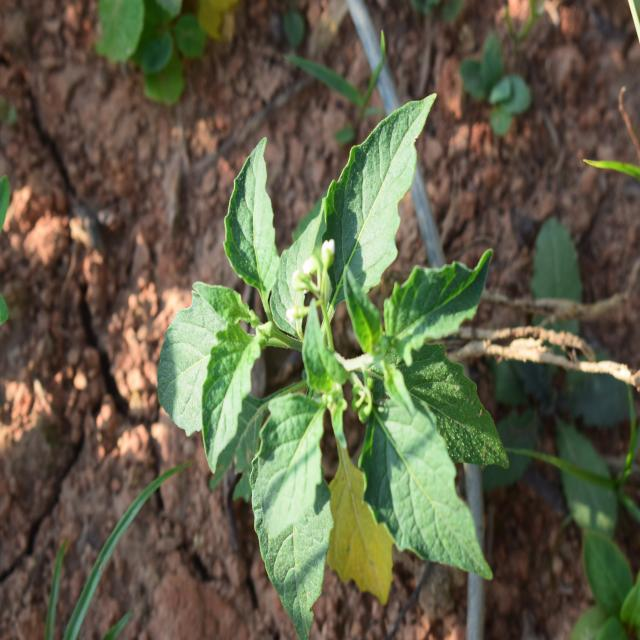Black_nightshade: (177, 125, 499, 577)
